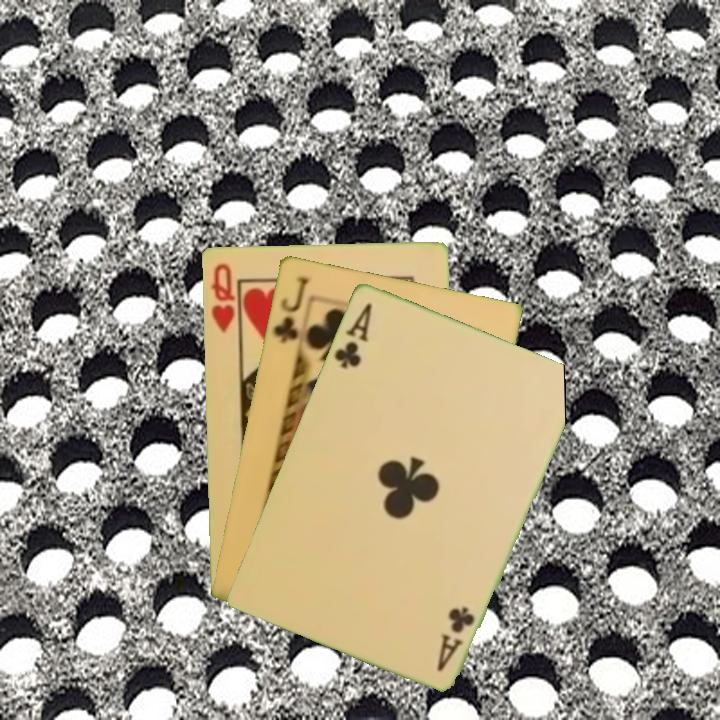Ac: (432, 602, 478, 674), (330, 298, 375, 371)
Jc: (270, 272, 311, 346)
Qh: (207, 260, 237, 335)
